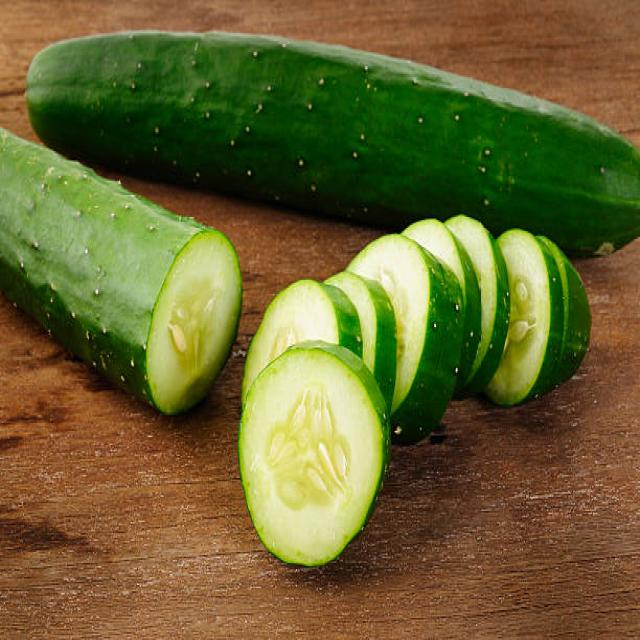cucumber: (24, 27, 640, 264), (0, 124, 242, 423)
